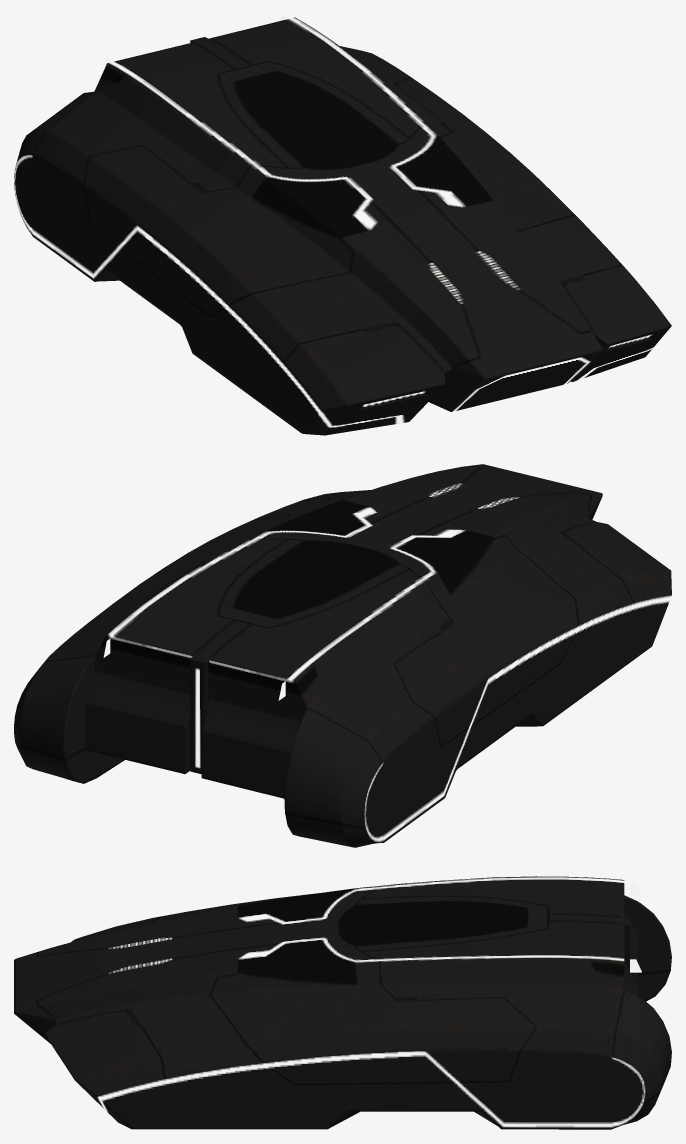
Rendered from auttvm_dydder_-_armor_part2.glb.
The picture shows the model from 3 angles, top to bottom: view 1: azimuth 30°, elevation 25°; view 2: azimuth 150°, elevation 25°; view 3: azimuth 270°, elevation 25°; orthographic projection. The views are drawn at different scales.
Parts seen in each view (by area): view 1: Object_2; view 2: Object_2; view 3: Object_2.
Part boxes in pixels (x1,y1,x2,y2): Object_2: [14, 14, 671, 435]; Object_2: [14, 464, 671, 847]; Object_2: [14, 876, 671, 1129].
Size of the model in its own units: 1.96 by 0.8205 by 3.57.
Materials: 1 (1 with a texture image).
